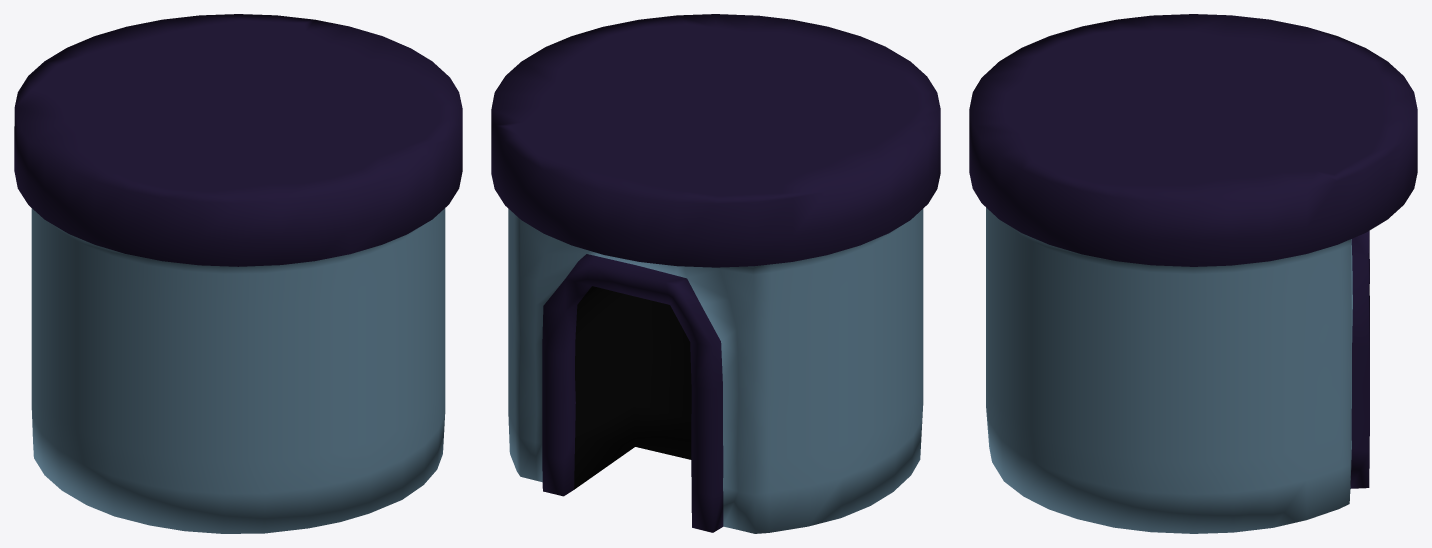
File: Lighthouse_GroundBlock_RAI.fbx
3 views of the same model, side by side, from view 1: azimuth 30°, elevation 25°; view 2: azimuth 150°, elevation 25°; view 3: azimuth 270°, elevation 25° (orthographic).
Parts seen in each view (by area): view 1: RetopoGroup1; view 2: RetopoGroup1; view 3: RetopoGroup1.
Boxes of the visible parts, bbox=[...] form: RetopoGroup1: bbox=[14, 14, 462, 533]; RetopoGroup1: bbox=[491, 14, 940, 533]; RetopoGroup1: bbox=[969, 14, 1417, 533].
Bounding box in the file's own units: 192 × 160 × 192.
